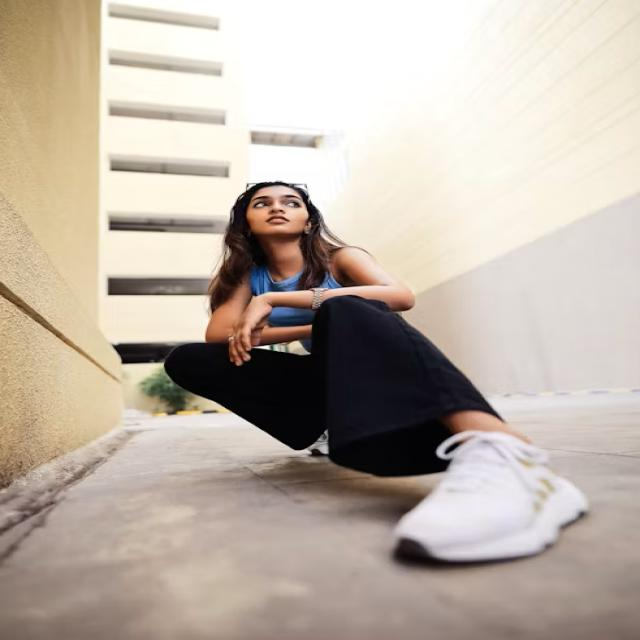Edited images: (141, 168, 598, 571)
